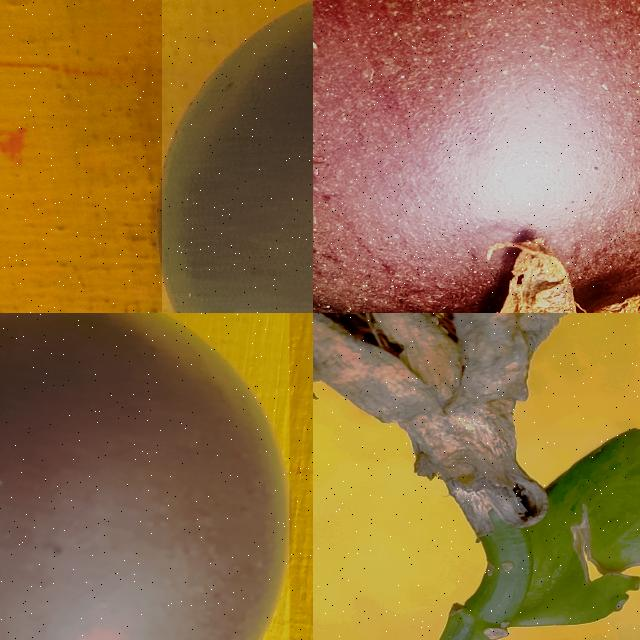Estado-2: (313, 313, 640, 640)
Estado-6: (313, 0, 640, 313)
